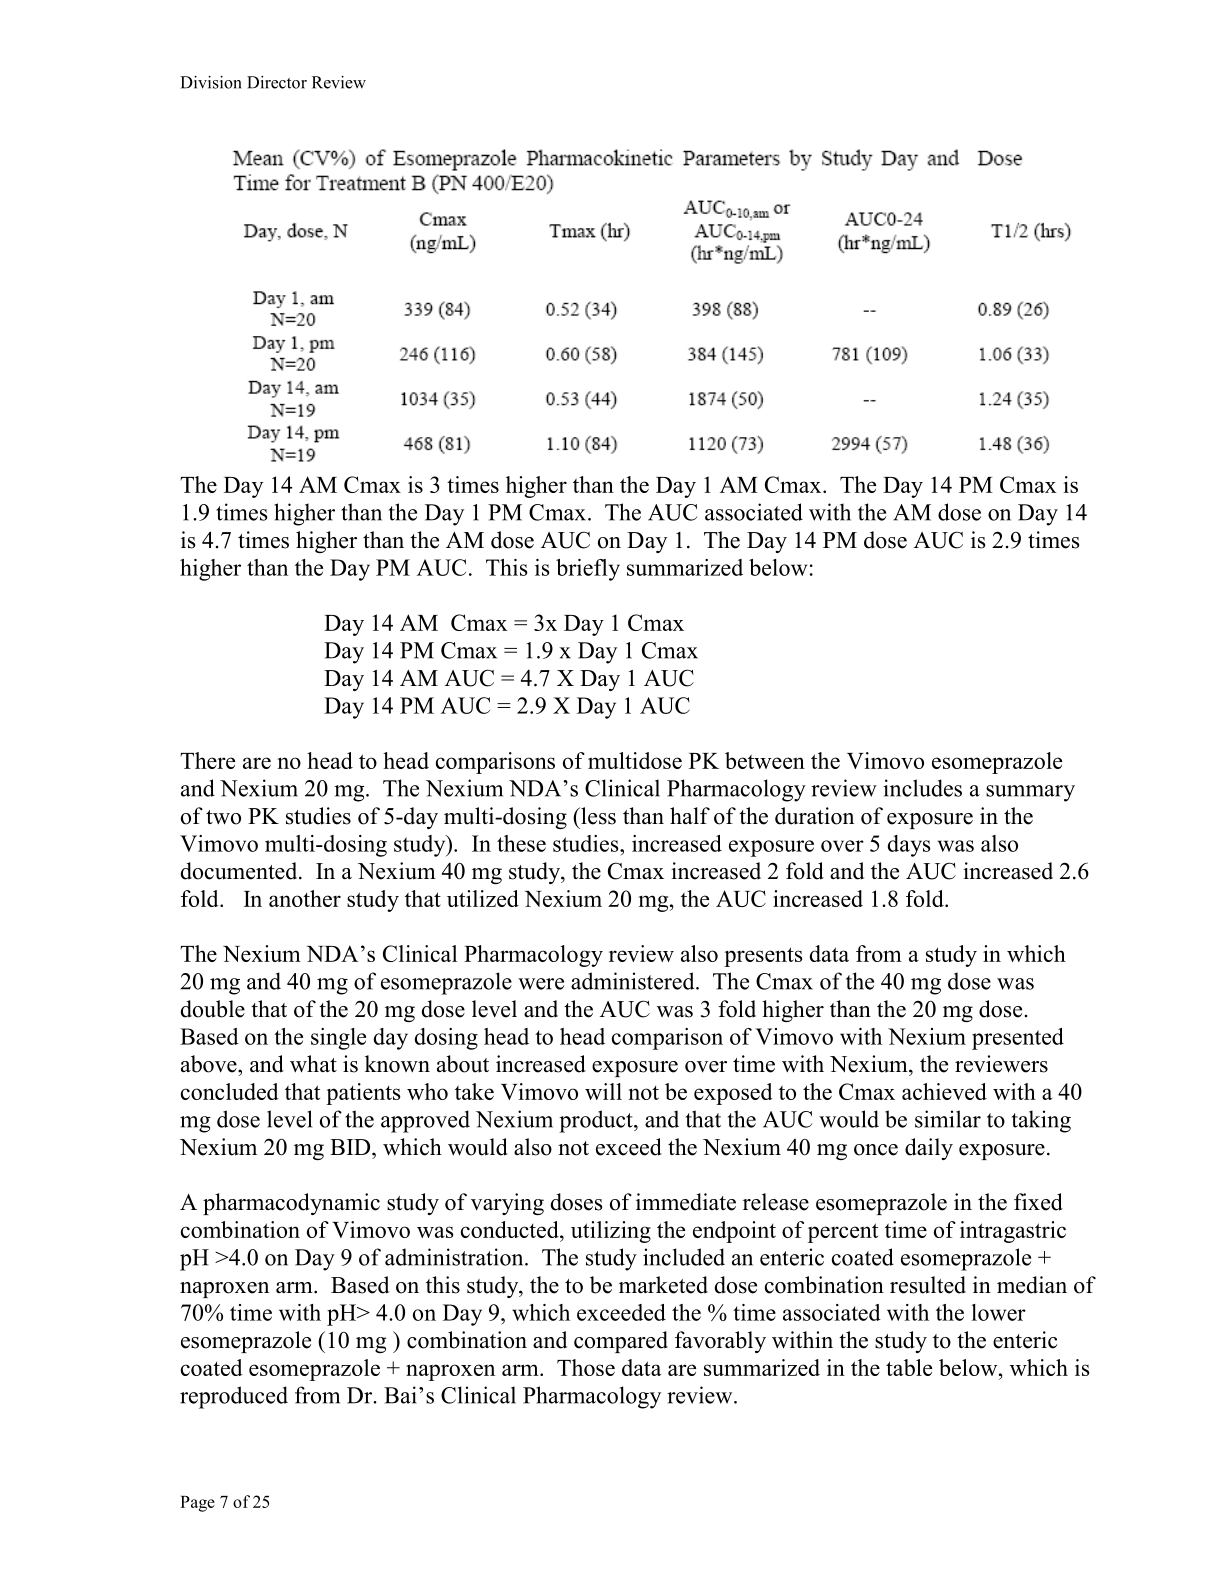nolines: (238, 195, 1075, 463)
